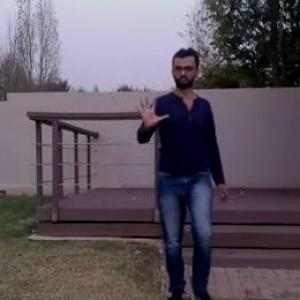follow_hand: (134, 92, 169, 130)
